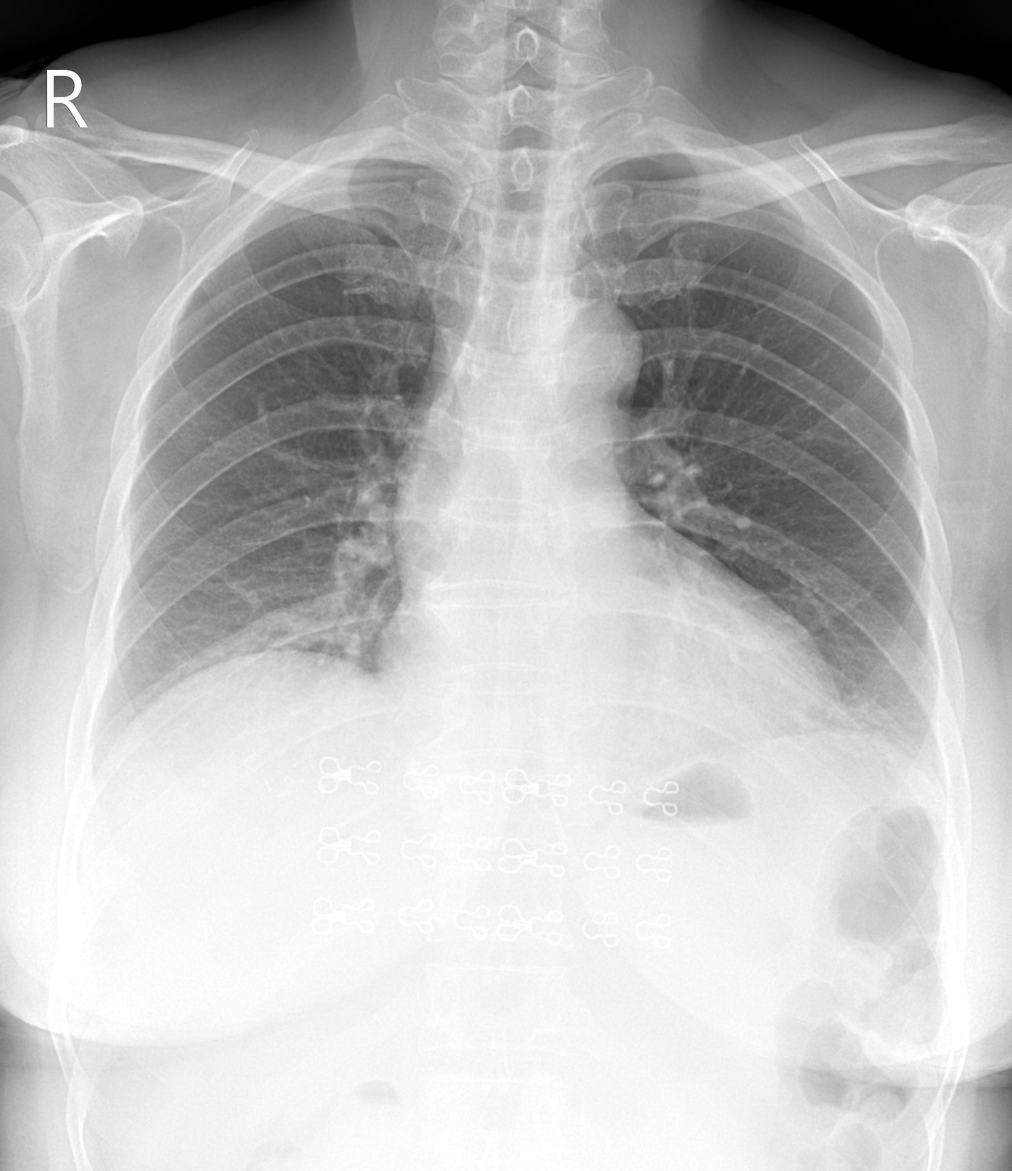Aortic enlargement: (530, 300, 638, 402)
